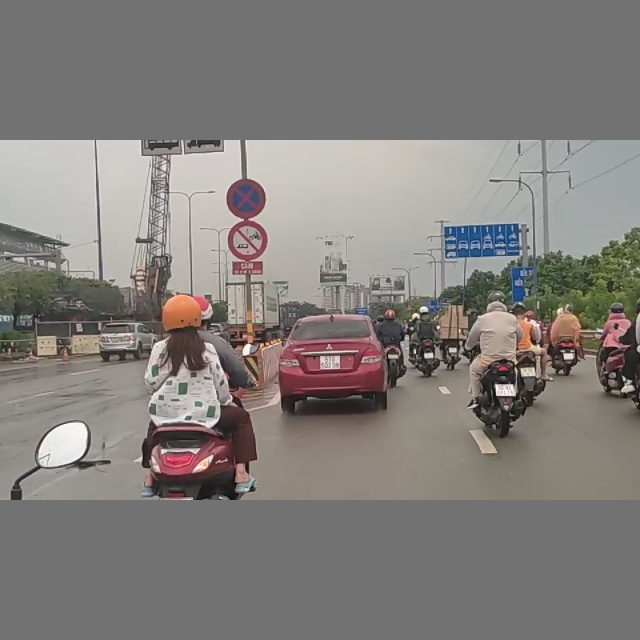P.111: (228, 221, 267, 259)
P.130: (227, 179, 265, 218)
